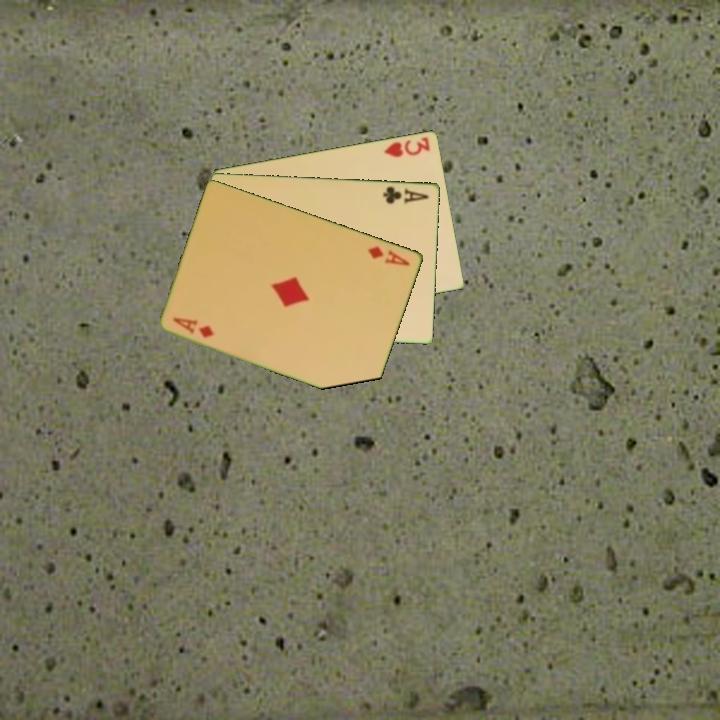3h: (381, 133, 433, 160)
Ac: (380, 183, 432, 206)
Ad: (364, 242, 414, 269), (170, 314, 218, 340)
